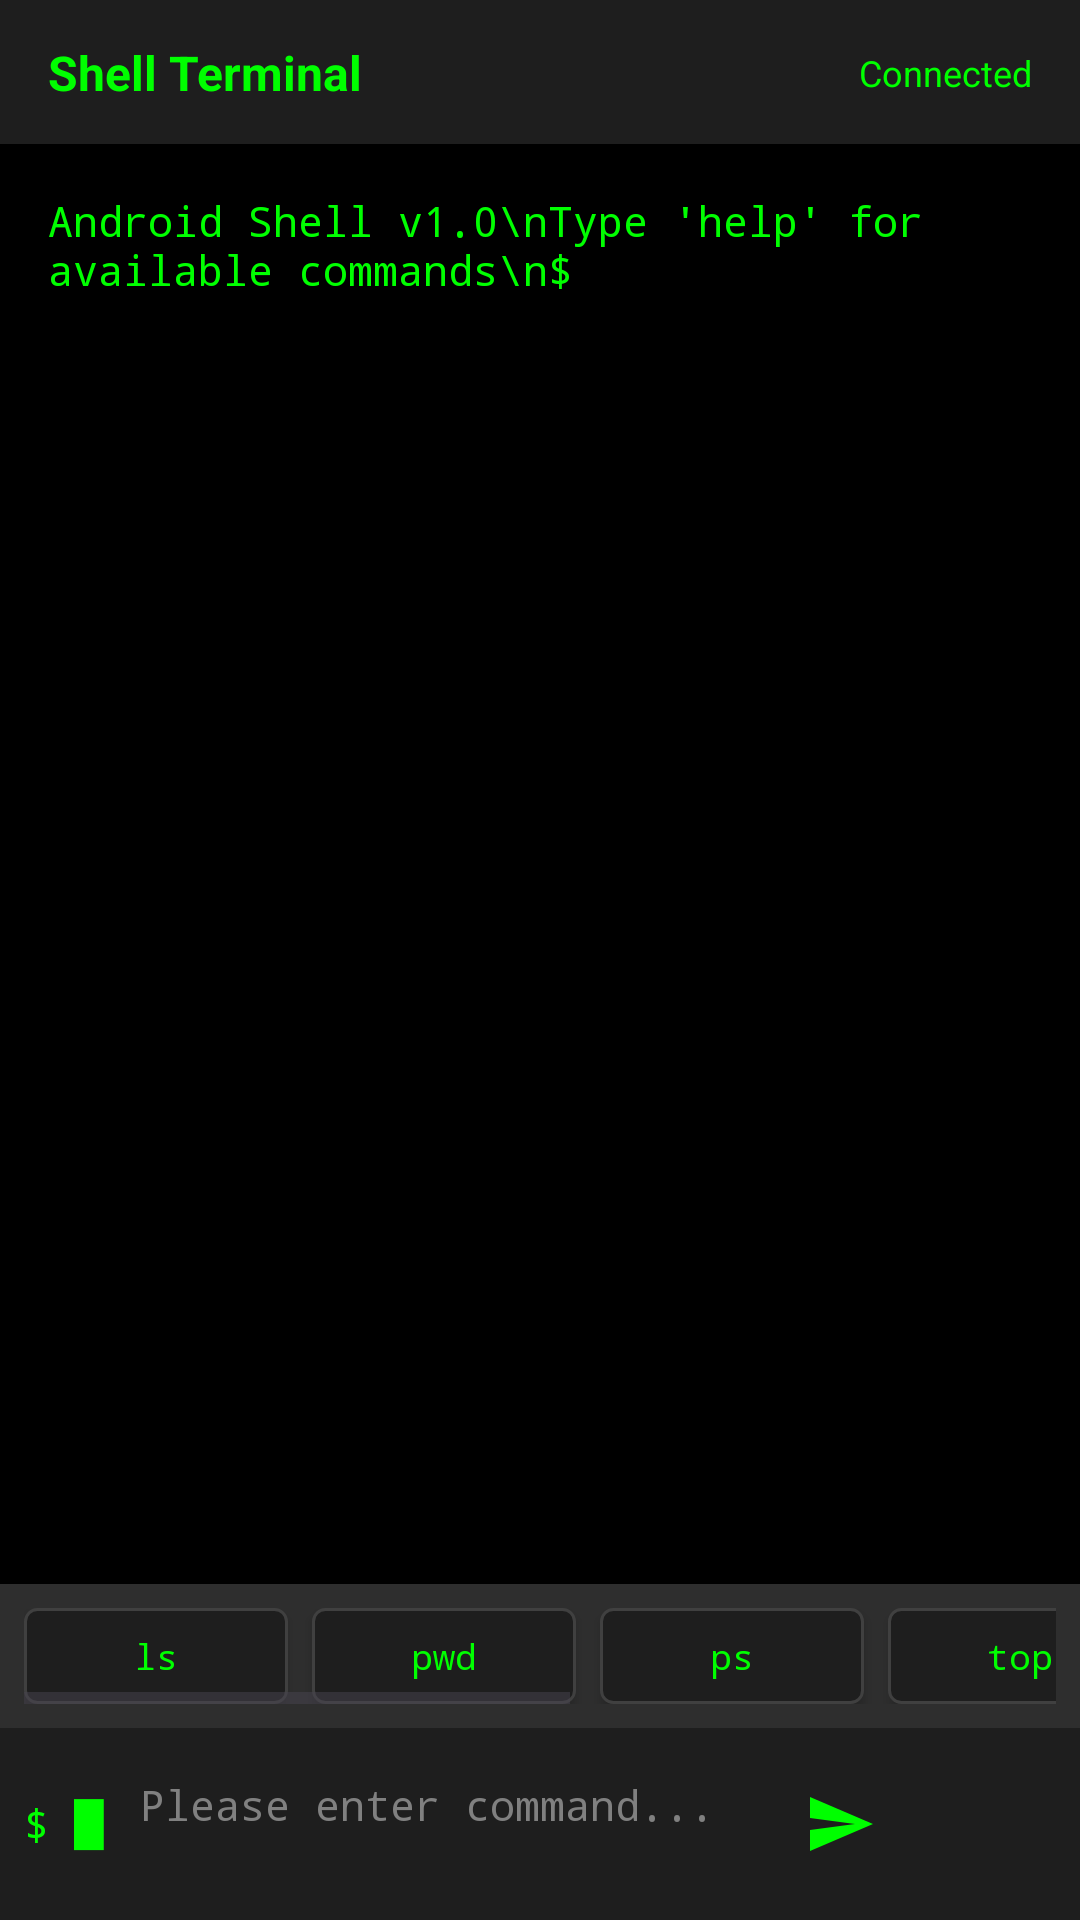

Icons on this 1080 x 1920 Android screen, each with its box as (x1, y1, x2, y2):
send command: (810, 1797, 873, 1851)
